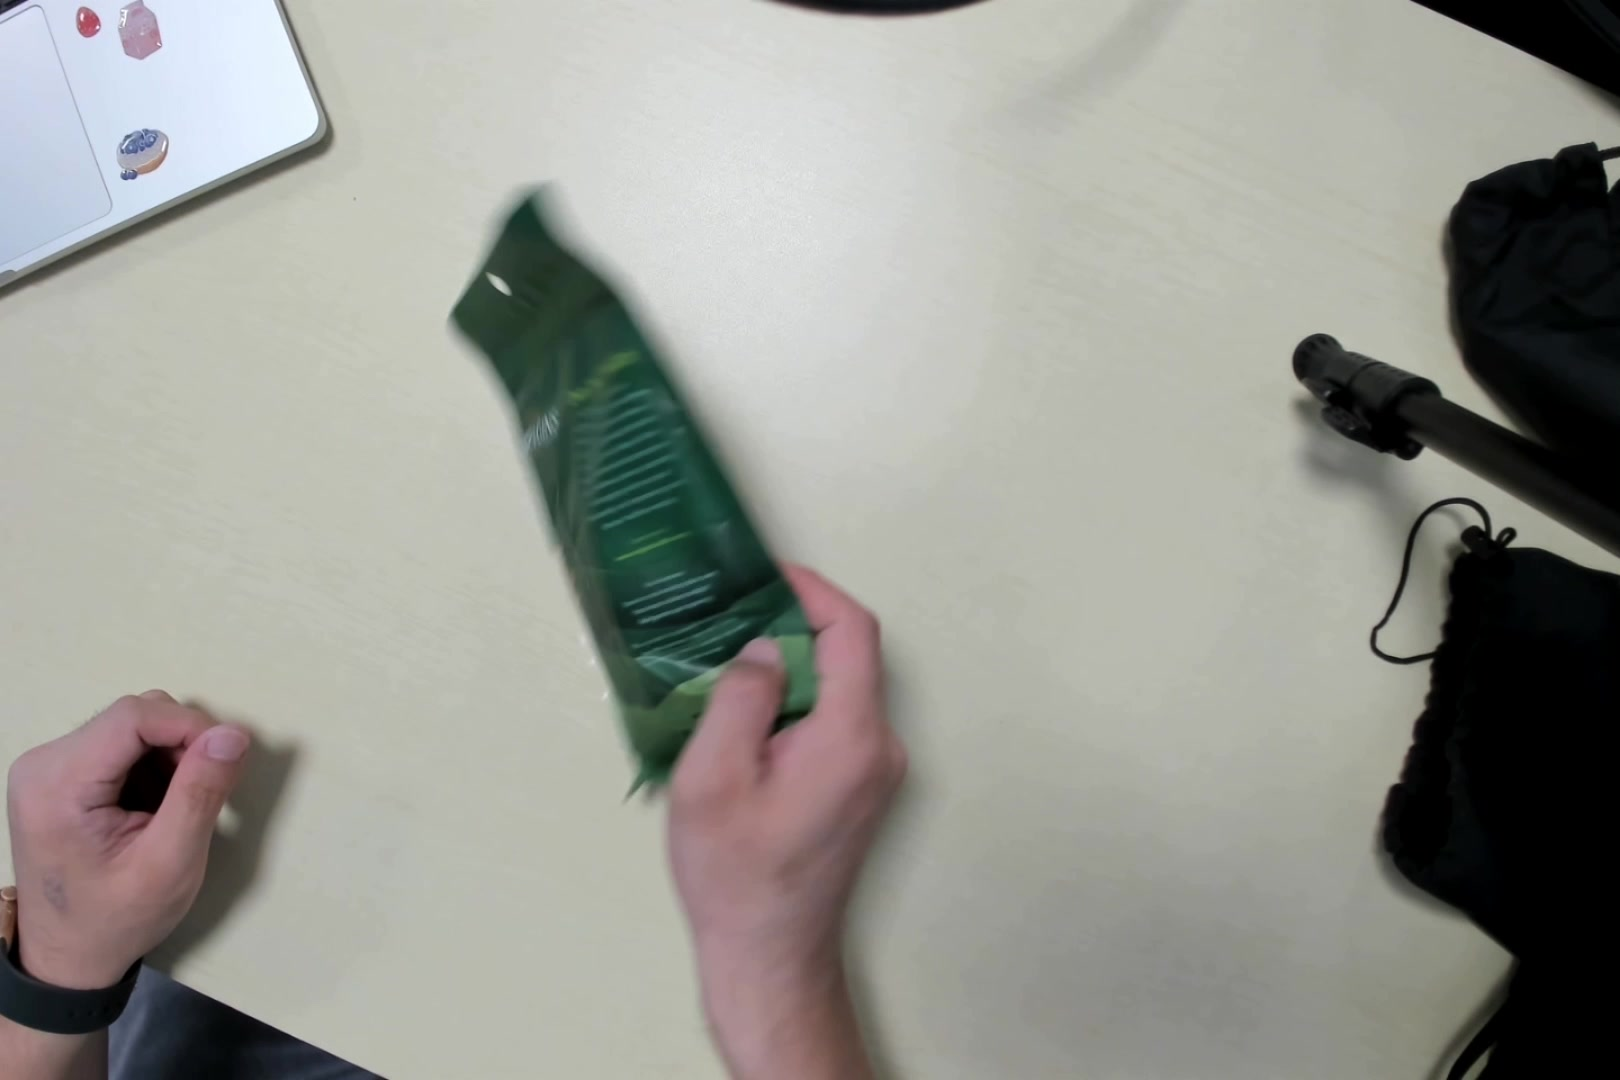OtherDriedFood_200-299g_NonHalal_NonHealthy: (452, 198, 830, 796)
